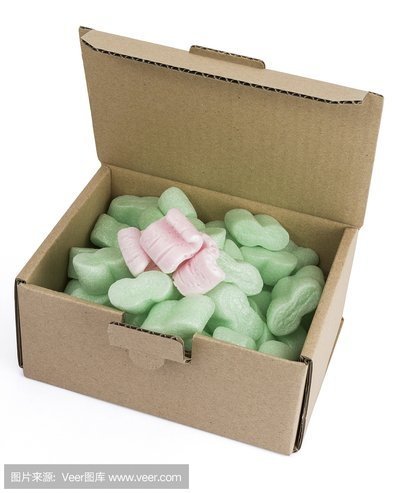5/可回收垃圾/泡沫: (14, 26, 385, 455)
